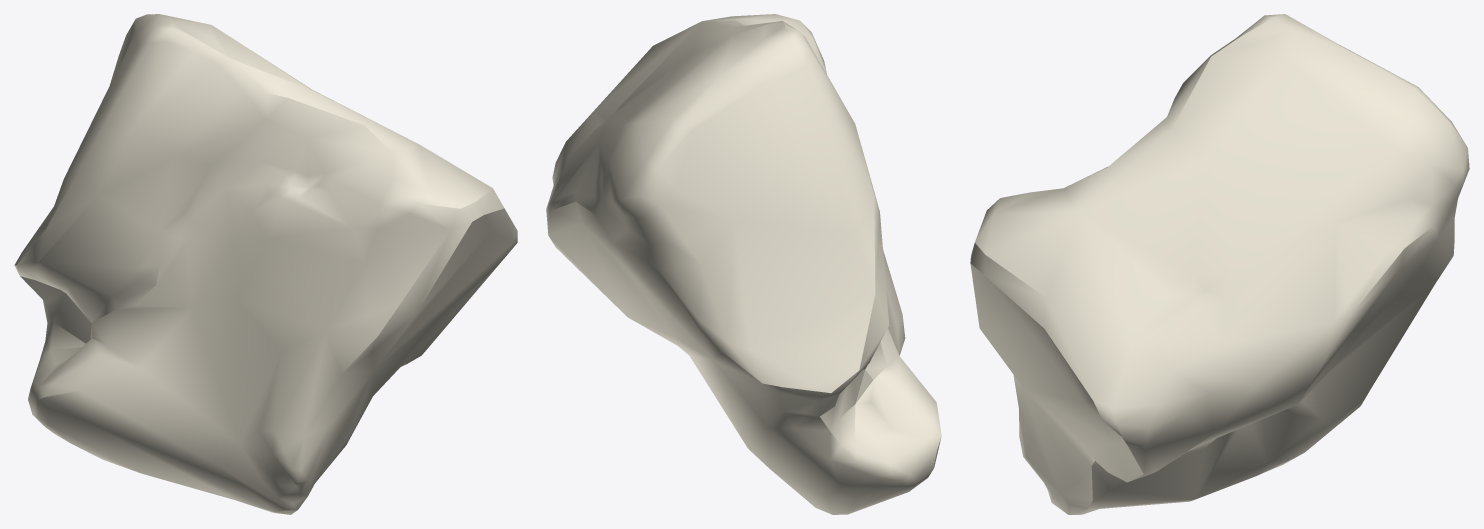
The model's file is fma24526_fj3267.glb.
3 views of the same model, side by side, from view 1: azimuth 30°, elevation 25°; view 2: azimuth 150°, elevation 25°; view 3: azimuth 270°, elevation 25° (orthographic). The views are drawn at different scales.
Parts seen in each view (by area): view 1: FMA24526_FJ3267; view 2: FMA24526_FJ3267; view 3: FMA24526_FJ3267.
Part boxes in pixels (x1=…): FMA24526_FJ3267: x1=14, y1=14, x2=517, y2=514; FMA24526_FJ3267: x1=546, y1=14, x2=941, y2=514; FMA24526_FJ3267: x1=970, y1=14, x2=1469, y2=514.
Size of the model in its own units: 0.0257 by 0.0258 by 0.0242.
